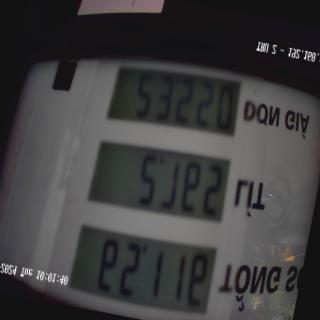screen: (59, 46, 256, 320)
